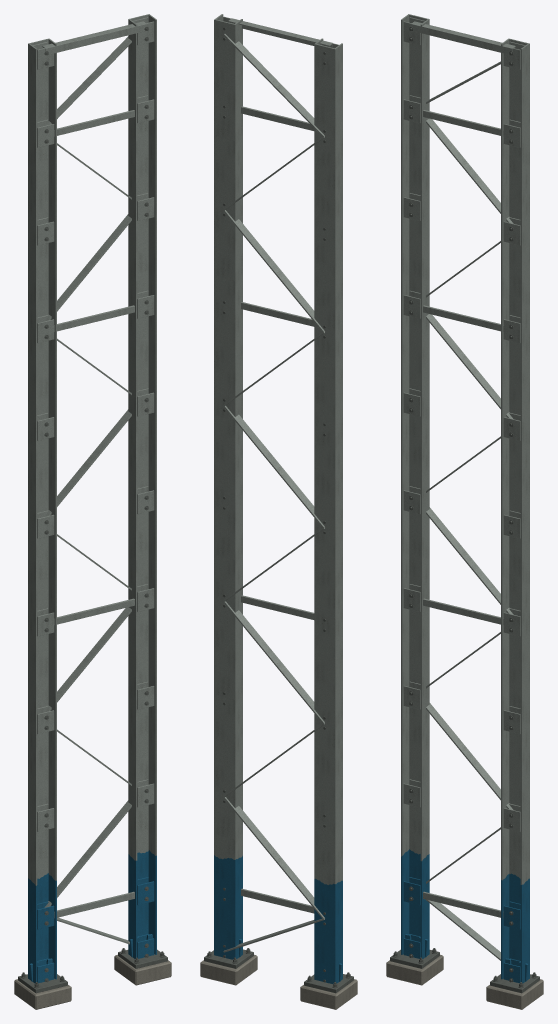
File: station-mast.glb
3 views of the same model, side by side, from view 1: azimuth 30°, elevation 25°; view 2: azimuth 150°, elevation 25°; view 3: azimuth 330°, elevation 25° (orthographic).
Parts seen in each view (by area): view 1: Station mast / Weathered grey protective coating over galvan, Station mast / Faded blue lower mast paint, Station mast / Weathered concrete footing, Station mast / Dull galvanized bolts and bearing plates; view 2: Station mast / Weathered grey protective coating over galvan, Station mast / Faded blue lower mast paint, Station mast / Weathered concrete footing, Station mast / Dull galvanized bolts and bearing plates; view 3: Station mast / Weathered grey protective coating over galvan, Station mast / Faded blue lower mast paint, Station mast / Weathered concrete footing, Station mast / Dull galvanized bolts and bearing plates.
Part boxes in pixels (x1=…): Station mast / Weathered grey protective coating over galvan: x1=28, y1=14, x2=156, y2=944; Station mast / Faded blue lower mast paint: x1=28, y1=850, x2=156, y2=983; Station mast / Weathered concrete footing: x1=14, y1=954, x2=171, y2=1009; Station mast / Dull galvanized bolts and bearing plates: x1=18, y1=26, x2=167, y2=993; Station mast / Weathered grey protective coating over galvan: x1=214, y1=14, x2=342, y2=952; Station mast / Faded blue lower mast paint: x1=214, y1=855, x2=342, y2=983; Station mast / Weathered concrete footing: x1=200, y1=954, x2=357, y2=1009; Station mast / Dull galvanized bolts and bearing plates: x1=204, y1=27, x2=353, y2=993; Station mast / Weathered grey protective coating over galvan: x1=401, y1=14, x2=529, y2=960; Station mast / Faded blue lower mast paint: x1=401, y1=849, x2=529, y2=983; Station mast / Weathered concrete footing: x1=386, y1=954, x2=543, y2=1009; Station mast / Dull galvanized bolts and bearing plates: x1=390, y1=26, x2=539, y2=993.
Size of the model in its own units: 1.23 by 8.2 by 0.34.
4 materials, 4 textured.
